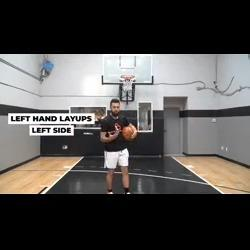BasketBall: (120, 122, 138, 141)
